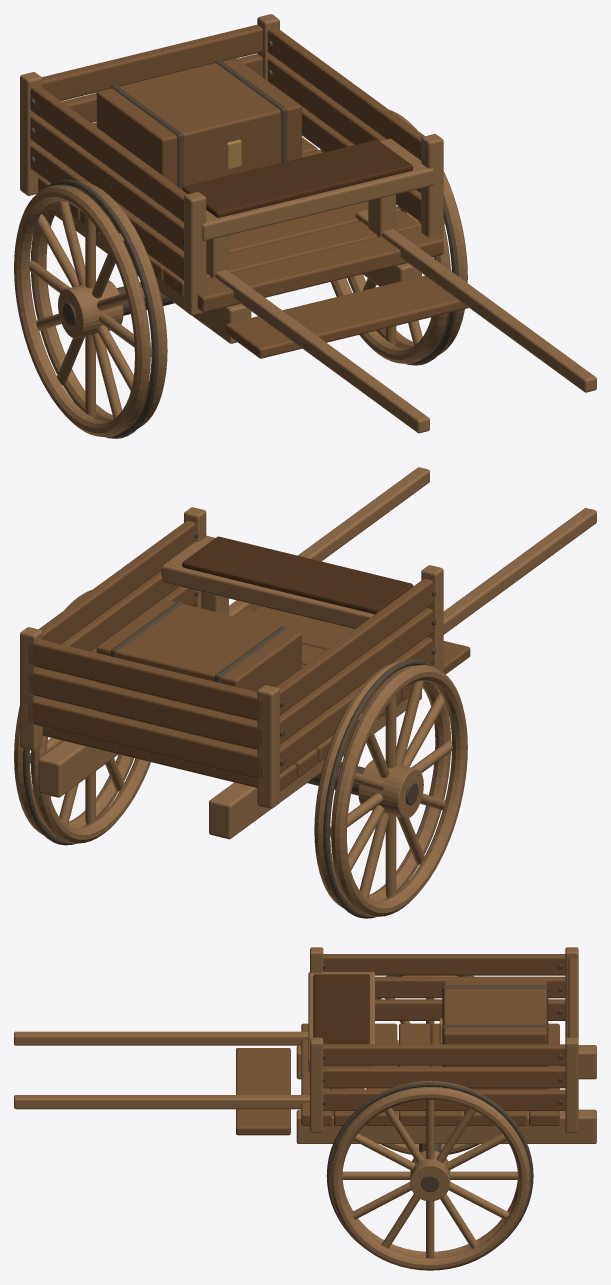
File: cart.glb
3 views of the same model, one above another, from view 1: azimuth 30°, elevation 25°; view 2: azimuth 150°, elevation 25°; view 3: azimuth 270°, elevation 25° (orthographic). The views are drawn at different scales.
Parts seen in each view (by area): view 1: CartBody, Wheel_R, Wheel_L; view 2: CartBody, Wheel_R, Wheel_L; view 3: CartBody, Wheel_L, Wheel_R.
Boxes of the visible parts, x1=… form: CartBody: x1=20, y1=14, x2=596, y2=433; Wheel_R: x1=14, y1=179, x2=167, y2=438; Wheel_L: x1=320, y1=110, x2=467, y2=365; CartBody: x1=20, y1=467, x2=596, y2=839; Wheel_R: x1=314, y1=659, x2=467, y2=918; Wheel_L: x1=14, y1=590, x2=150, y2=845; CartBody: x1=14, y1=947, x2=596, y2=1152; Wheel_L: x1=326, y1=1081, x2=533, y2=1270; Wheel_R: x1=375, y1=975, x2=479, y2=1154.
Bounding box in the file's own units: 1.86 × 1.44 × 3.5.
